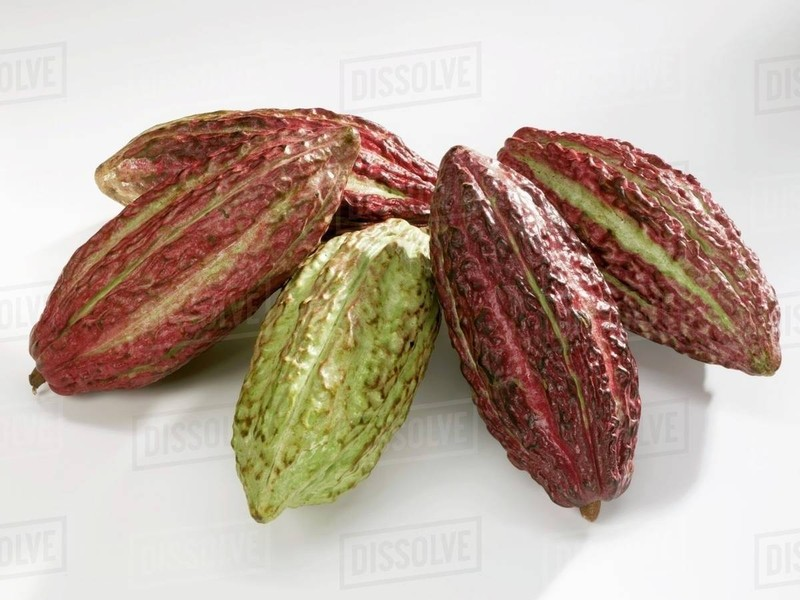Cacaopod: (23, 120, 363, 399), (427, 142, 645, 523), (499, 125, 783, 379), (231, 218, 442, 528)
